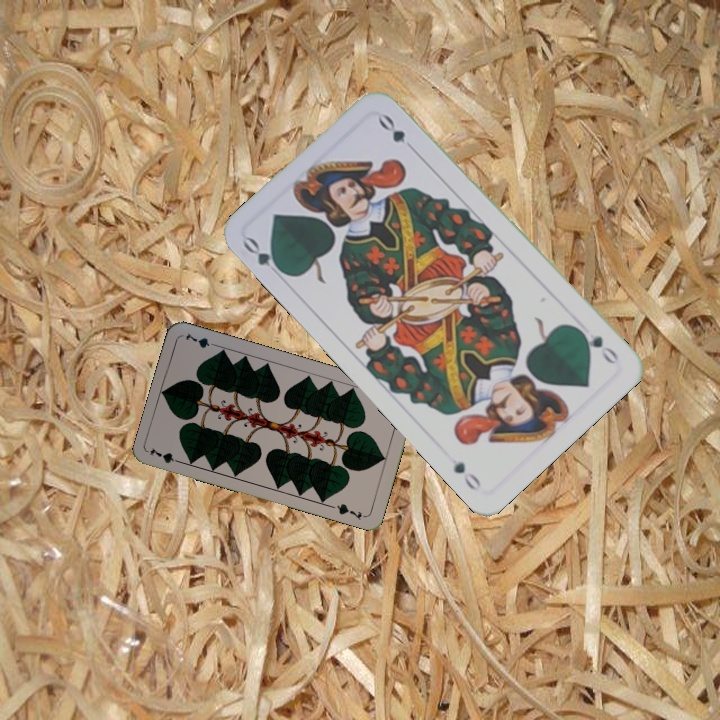G7: (146, 444, 186, 466)
GO: (239, 233, 290, 278), (573, 324, 622, 367)
